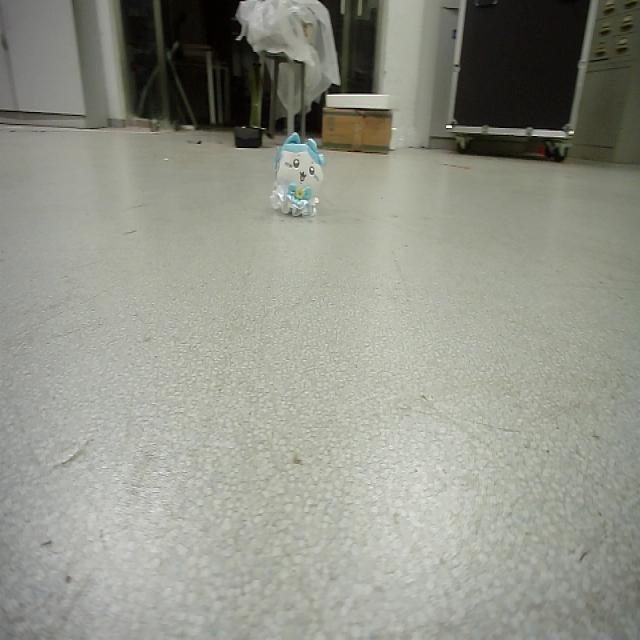xiaoba: (271, 132, 325, 222)
